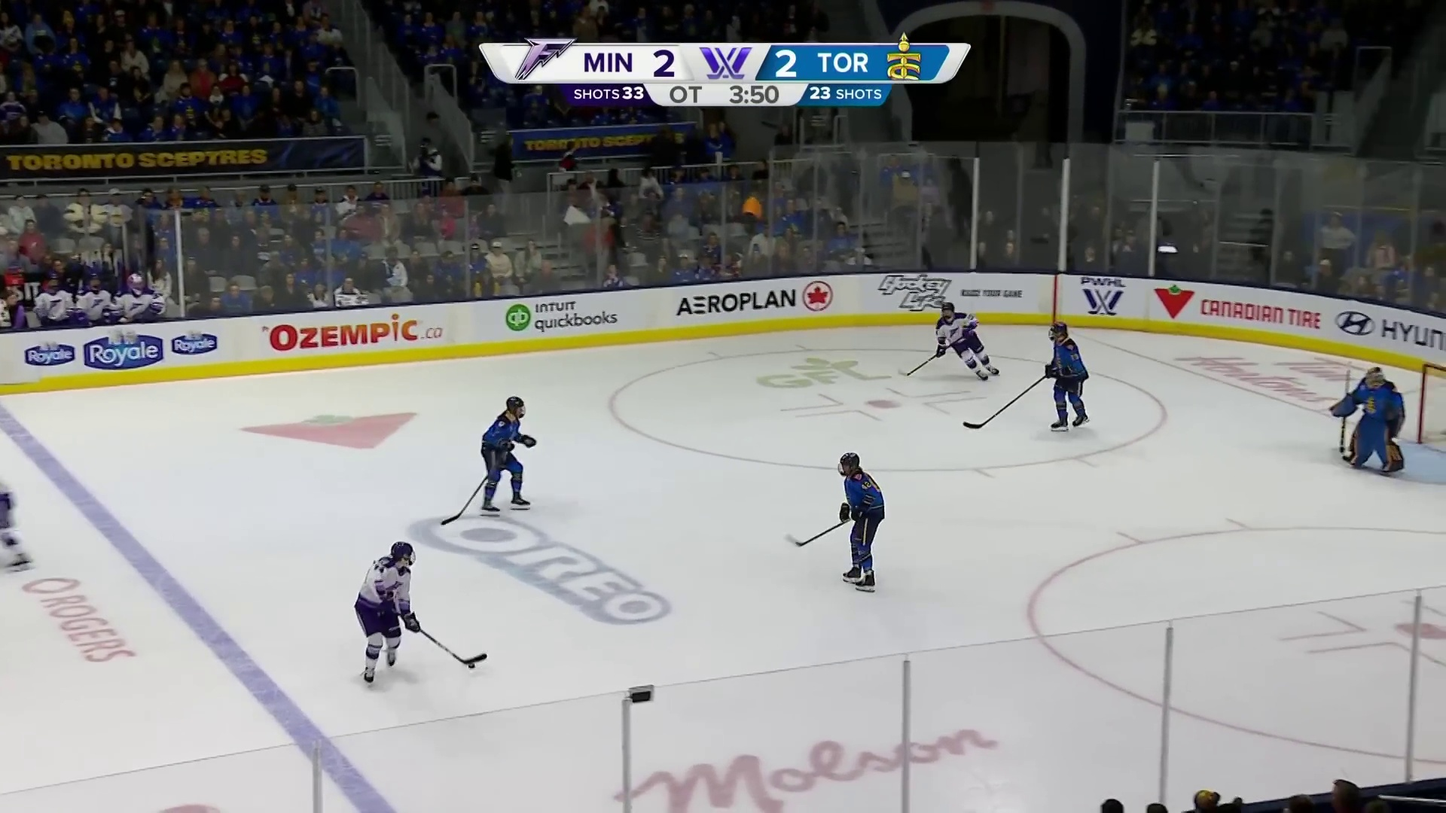goaltender: (1330, 364, 1410, 475)
player: (351, 538, 421, 688), (477, 395, 541, 517), (835, 449, 887, 591), (933, 300, 1005, 381), (1043, 319, 1093, 431)
puck: (460, 659, 483, 671)
